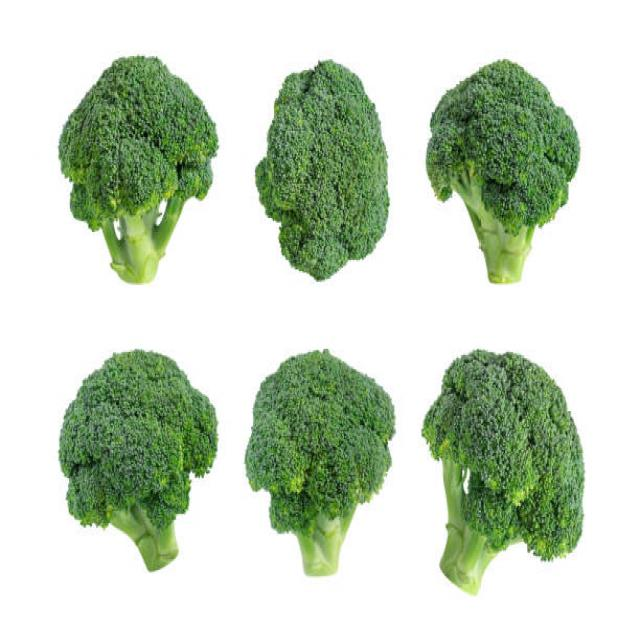broccoli: (28, 39, 230, 318), (420, 342, 612, 622), (37, 329, 231, 605), (238, 29, 401, 305), (245, 325, 402, 600), (432, 58, 584, 324)
